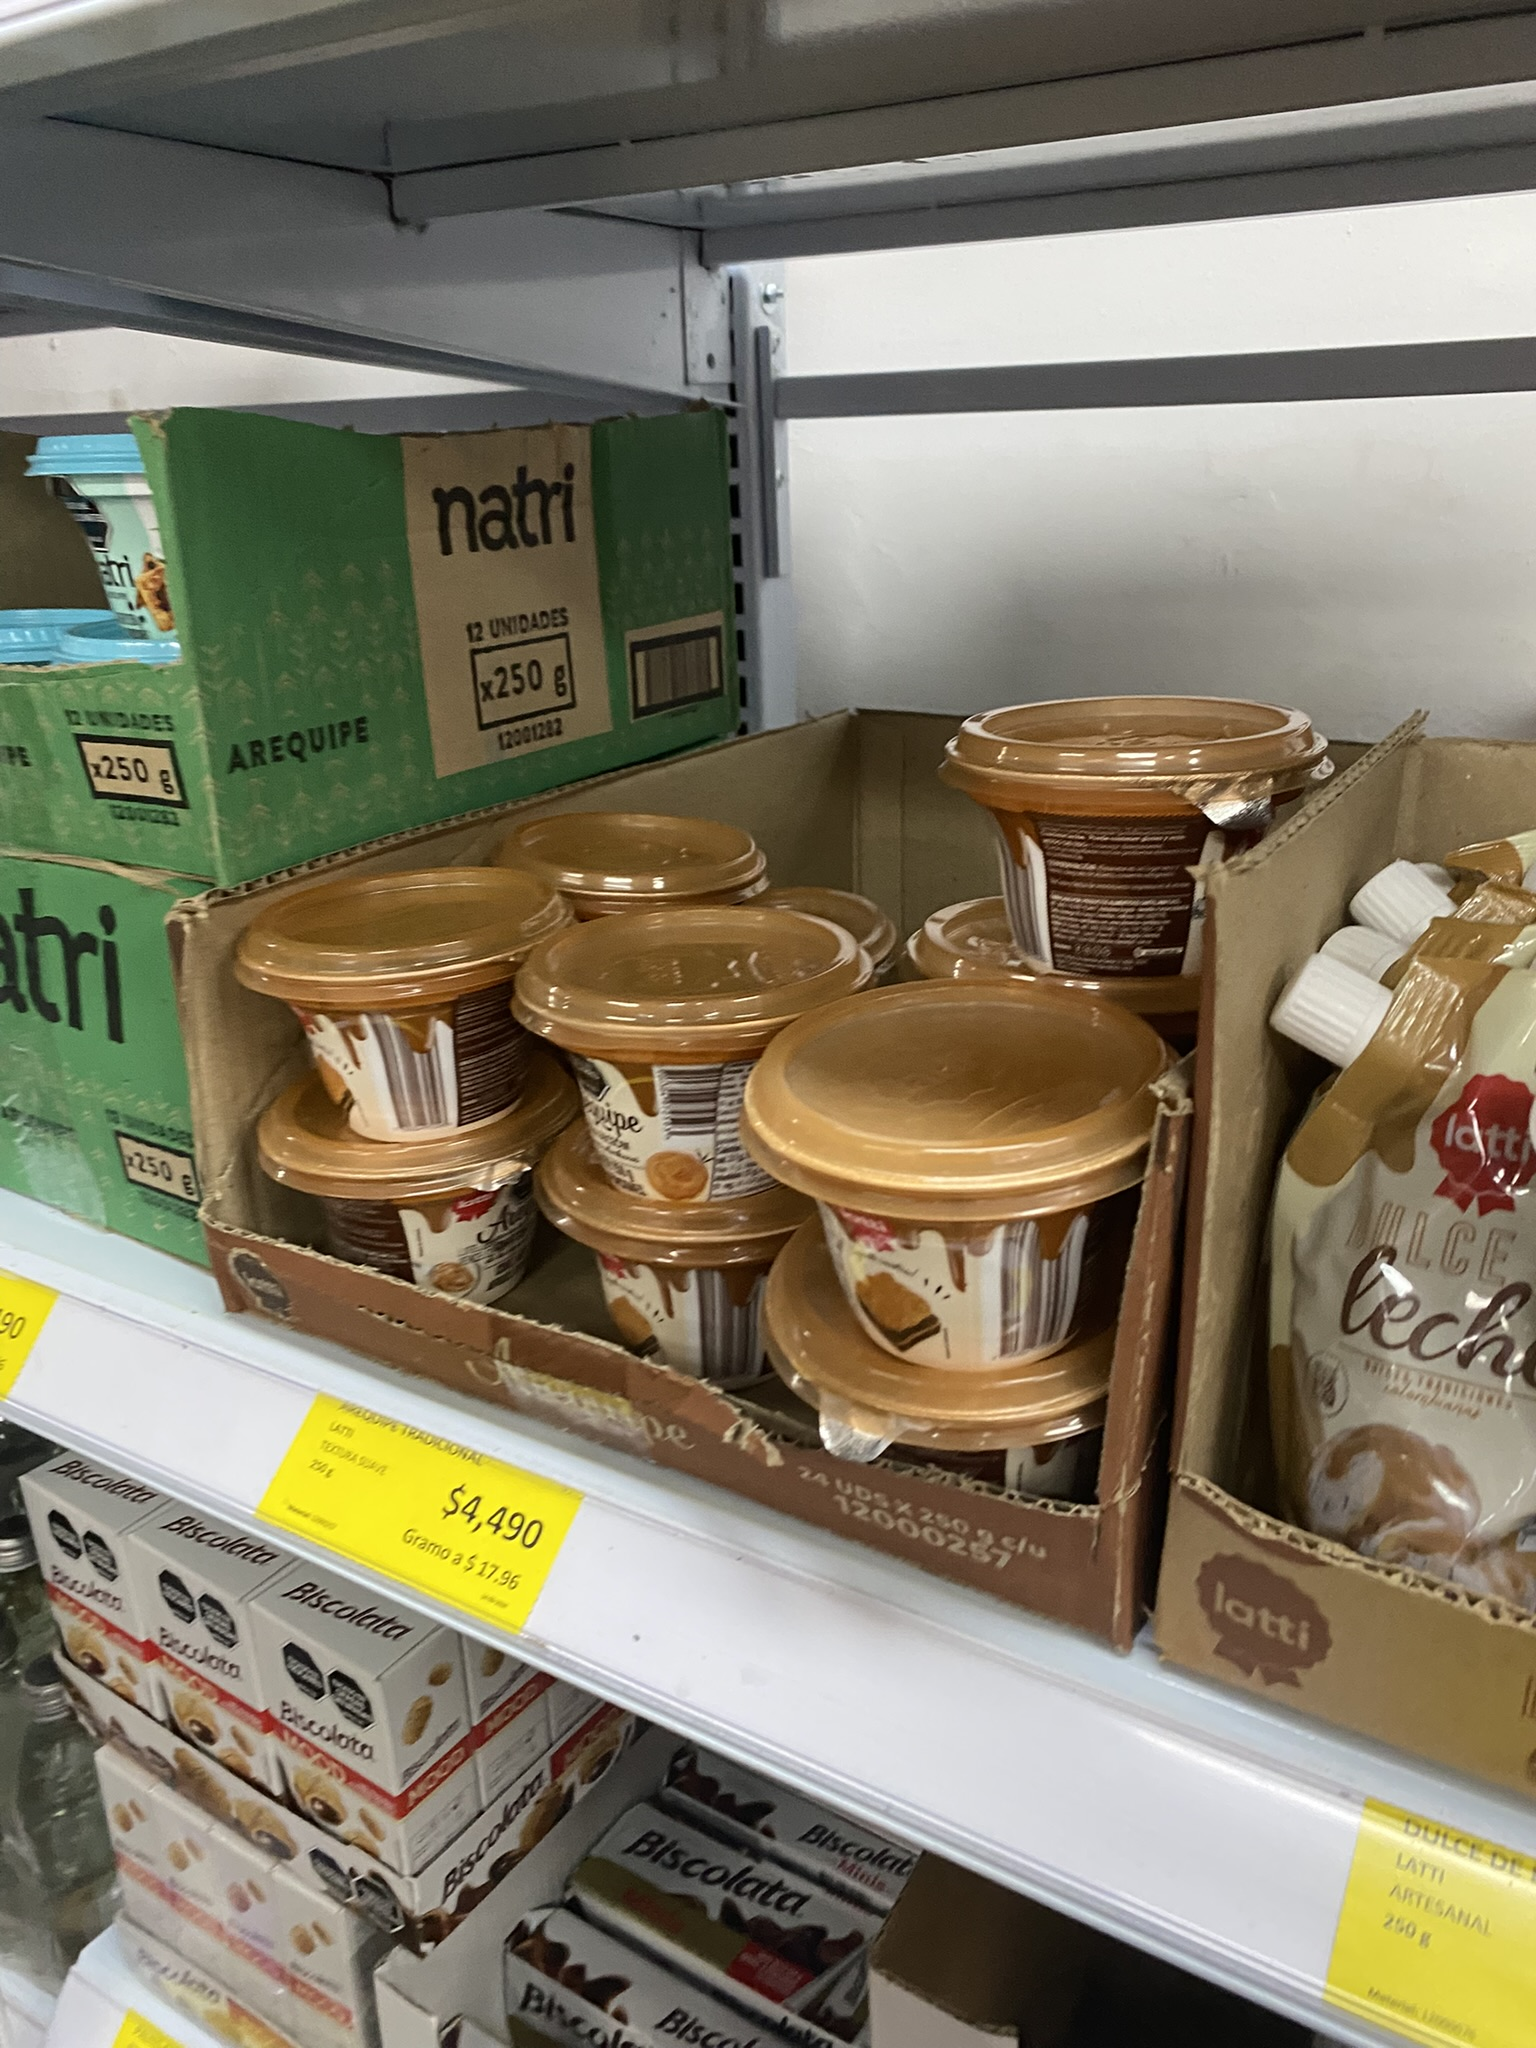Arequipe: (795, 985, 1179, 1348), (928, 676, 1333, 953), (553, 895, 863, 1206), (252, 877, 574, 1129), (532, 1190, 781, 1384), (257, 1137, 552, 1266)
